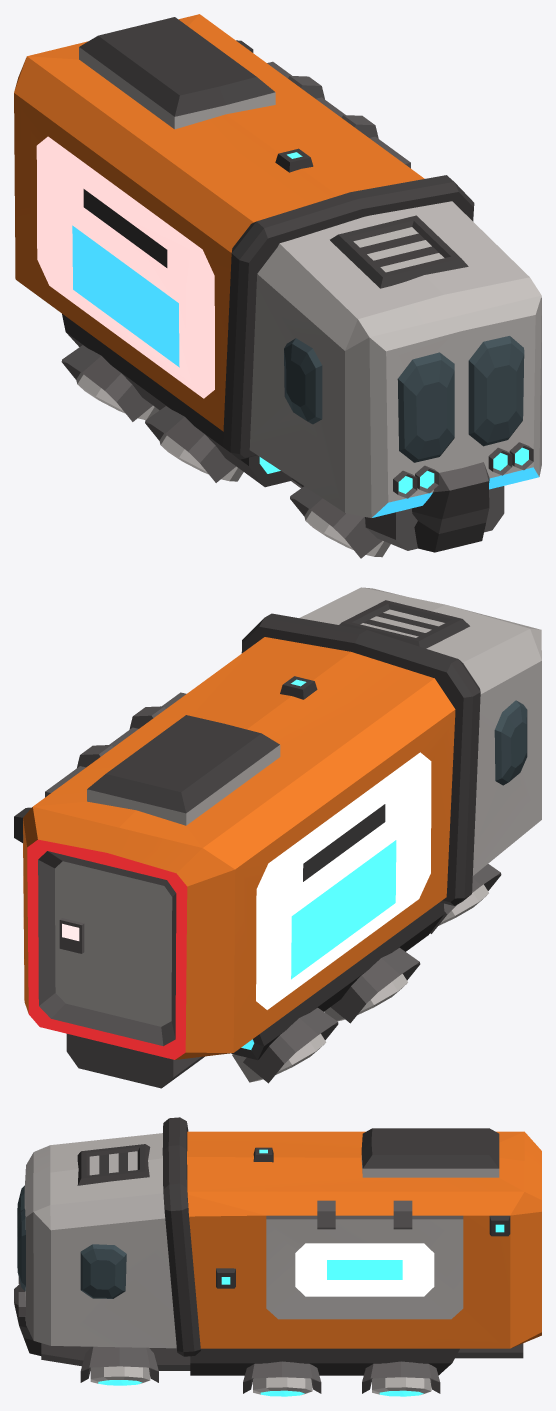
File: scifi_scifi-foodtruck-closed.fbx
3 renders of one model, top to bottom at view 1: azimuth 30°, elevation 25°; view 2: azimuth 150°, elevation 25°; view 3: azimuth 270°, elevation 25°, orthographic. The views are drawn at different scales.
Parts seen in each view (by area): view 1: scifi_scifi_foodtruck_closed; view 2: scifi_scifi_foodtruck_closed; view 3: scifi_scifi_foodtruck_closed.
Boxes of the visible parts, x1,y1,x2,y2 form: scifi_scifi_foodtruck_closed: [14, 14, 541, 558]; scifi_scifi_foodtruck_closed: [14, 587, 541, 1088]; scifi_scifi_foodtruck_closed: [14, 1117, 541, 1396].
Size of the model in its own units: 76.02 by 98.62 by 200.
